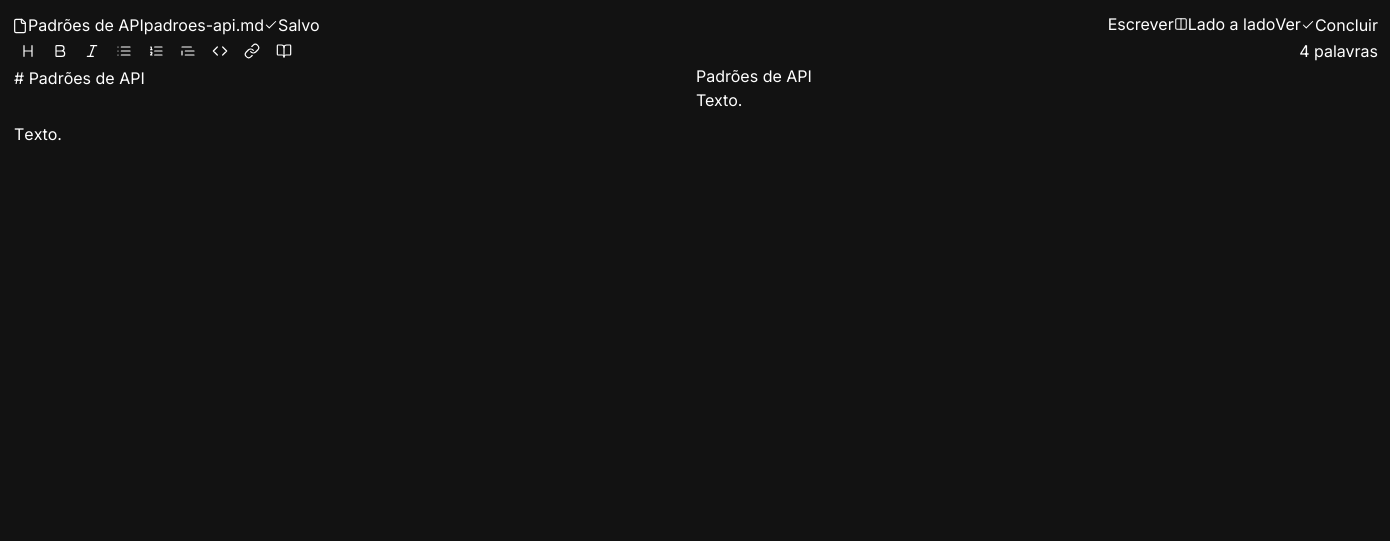
Test: gravação em andamento e falhas (revisão 1) › Concluir com o PUT recusado fica aberto, com o motivo à vista, e o 4xx não se repete
The image size is (1390, 541).
Replace the text in the text box named "Texto do documento, em markdown" with "grande demais" at (355, 294), box left=14, top=64, right=696, bottom=525
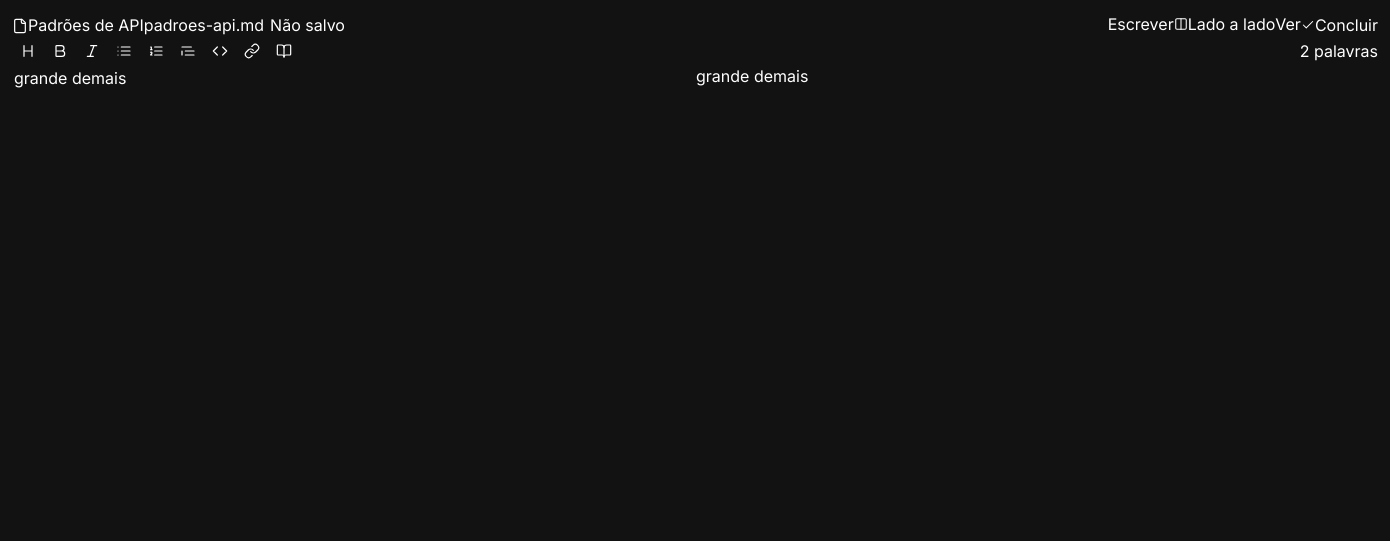
Click the button "Concluir".
click(1339, 25)  # box left=1301, top=12, right=1378, bottom=38
Wait 60100 ms
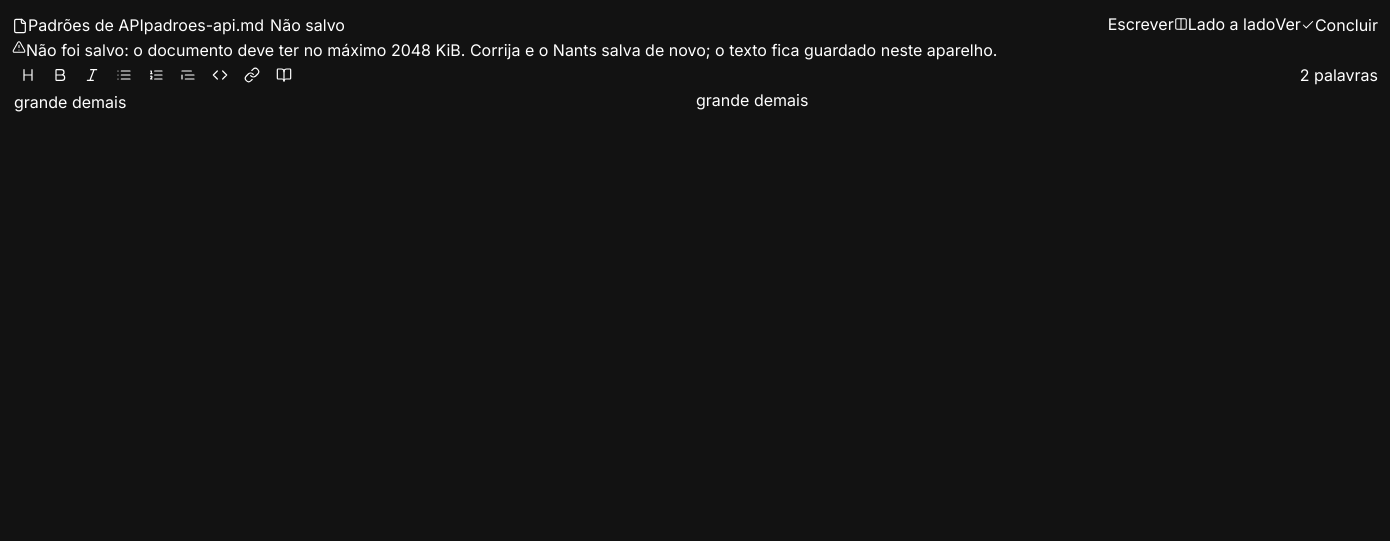
Check: the text "Não salvo" is shown, box left=270, top=13, right=345, bottom=37
Check: the 1st text "grande demais" is shown, box left=14, top=92, right=126, bottom=112
Check: the 2nd message shows "Não foi salvo: o documento deve ter no máximo 2048 KiB. Corrija e o Nants salva de novo; o texto fica guardado neste aparelho.", box left=26, top=40, right=997, bottom=60
